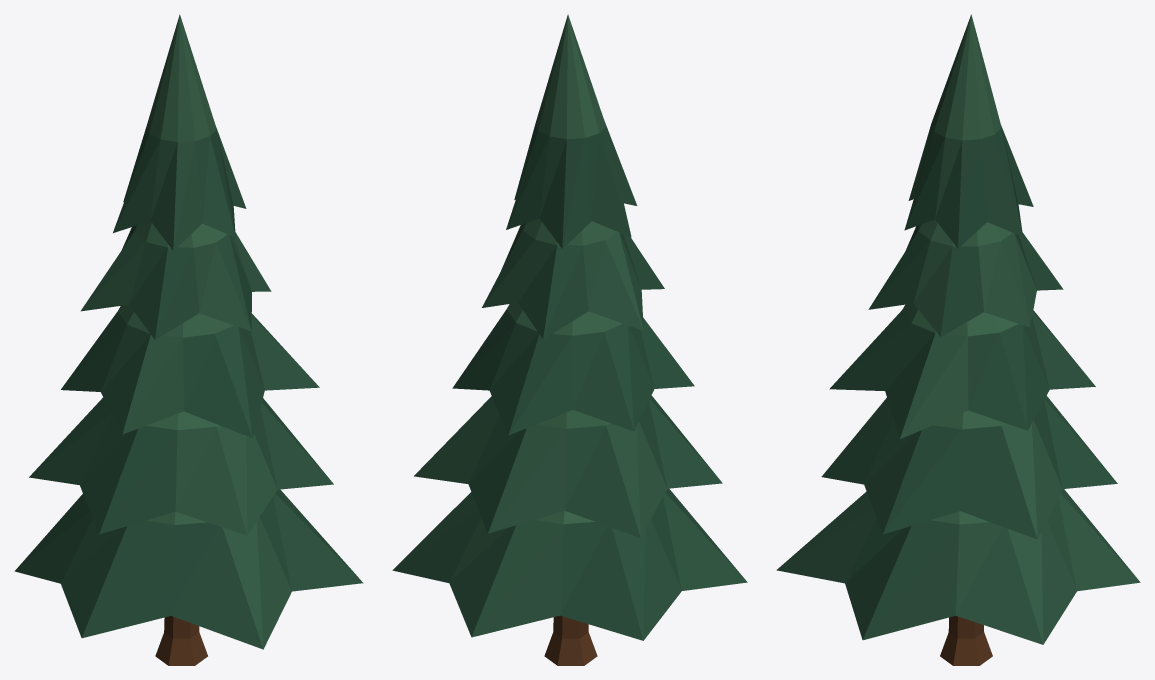
Rendered from tree_pine.glb.
3 renders of one model, left to right at view 1: azimuth 30°, elevation 25°; view 2: azimuth 150°, elevation 25°; view 3: azimuth 270°, elevation 25°, orthographic.
Visible parts, largest first — view 1: tree_pine; view 2: tree_pine; view 3: tree_pine.
Part boxes in pixels (x1,y1,x2,y2): tree_pine: (14, 14, 363, 665); tree_pine: (392, 14, 747, 665); tree_pine: (776, 14, 1140, 665).
Bounding box in the file's own units: 3.63 × 8 × 4.11.
